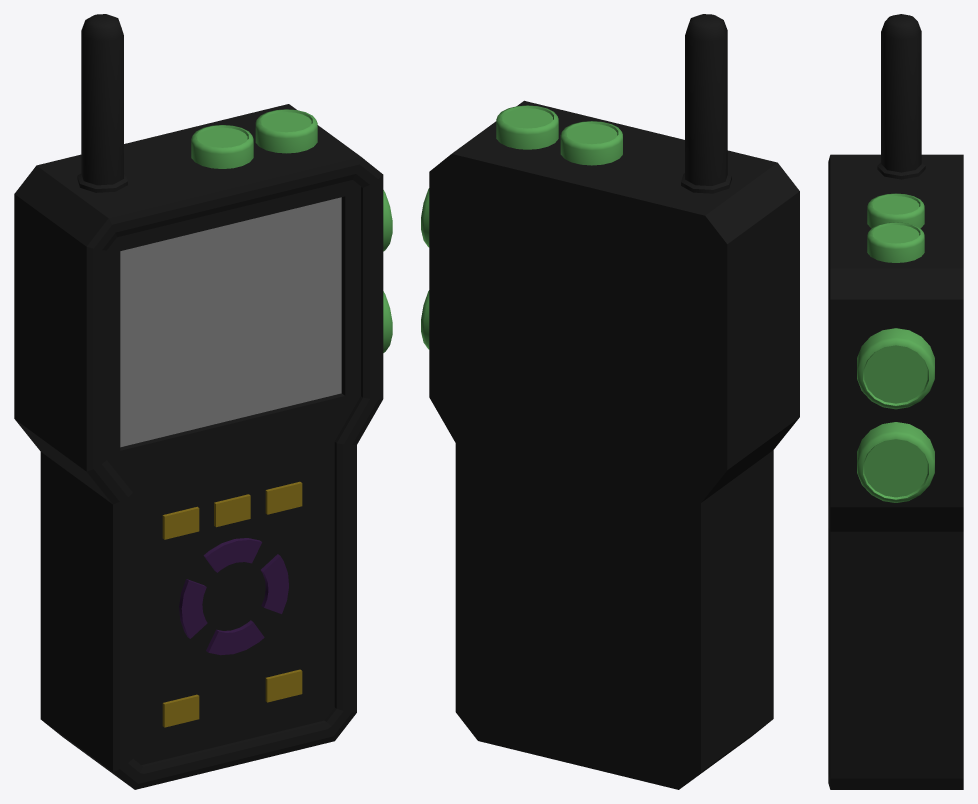
The model's file is efm.fbx.
The picture shows the model from 3 angles, left to right: view 1: azimuth 30°, elevation 25°; view 2: azimuth 150°, elevation 25°; view 3: azimuth 270°, elevation 25°; orthographic projection. The views are drawn at different scales.
Parts seen in each view (by area): view 1: Rectangle001, Cylinder004, Tube004, Box003; view 2: Rectangle001, Cylinder004; view 3: Rectangle001, Cylinder004.
Part boxes in pixels (x1,y1,x2,y2): Rectangle001: (14, 14, 383, 789); Cylinder004: (191, 109, 392, 352); Tube004: (179, 538, 288, 655); Box003: (162, 481, 302, 727); Rectangle001: (429, 14, 799, 789); Cylinder004: (421, 105, 622, 349); Rectangle001: (828, 14, 963, 789); Cylinder004: (857, 193, 934, 502).
Size of the model in its own units: 102 by 225 by 40.29.
